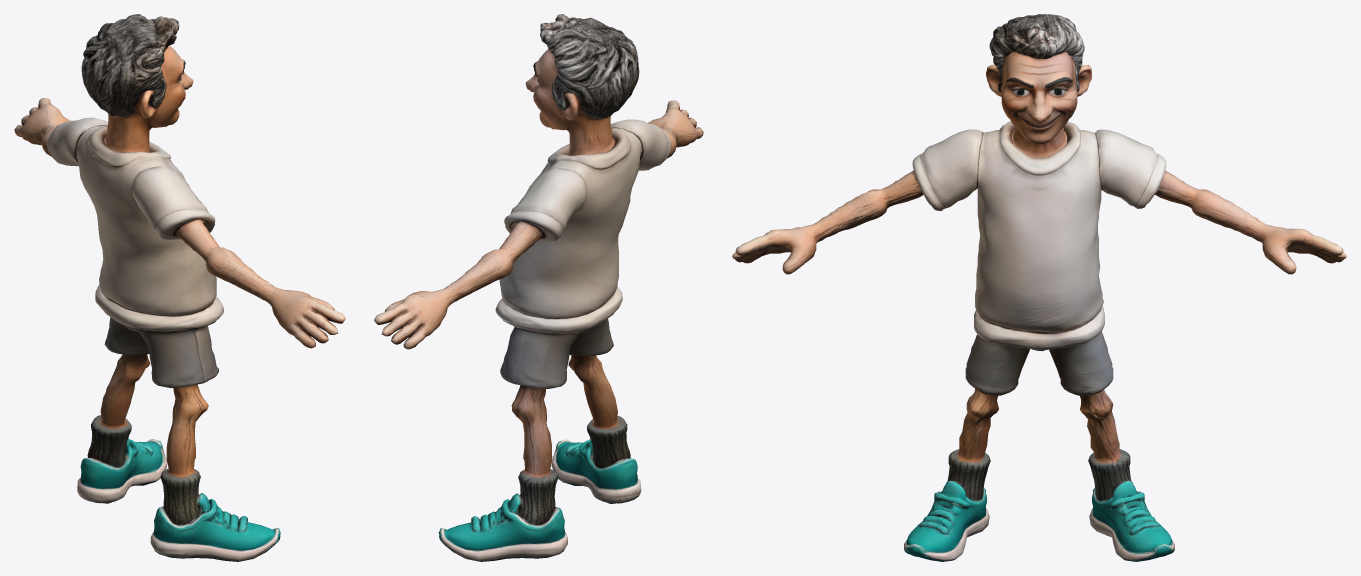
3 views of the same model, side by side, from view 1: azimuth 30°, elevation 25°; view 2: azimuth 150°, elevation 25°; view 3: azimuth 270°, elevation 25° (orthographic).
Visible parts, largest first — view 1: tripo_node_c90d08cf; view 2: tripo_node_c90d08cf; view 3: tripo_node_c90d08cf.
Part boxes in pixels (bbox=[...]): tripo_node_c90d08cf: bbox=[14, 14, 345, 561]; tripo_node_c90d08cf: bbox=[374, 14, 703, 561]; tripo_node_c90d08cf: bbox=[732, 14, 1346, 561].
Size of the model in its own units: 25.24 by 91.59 by 100.
1 material, 1 textured.
